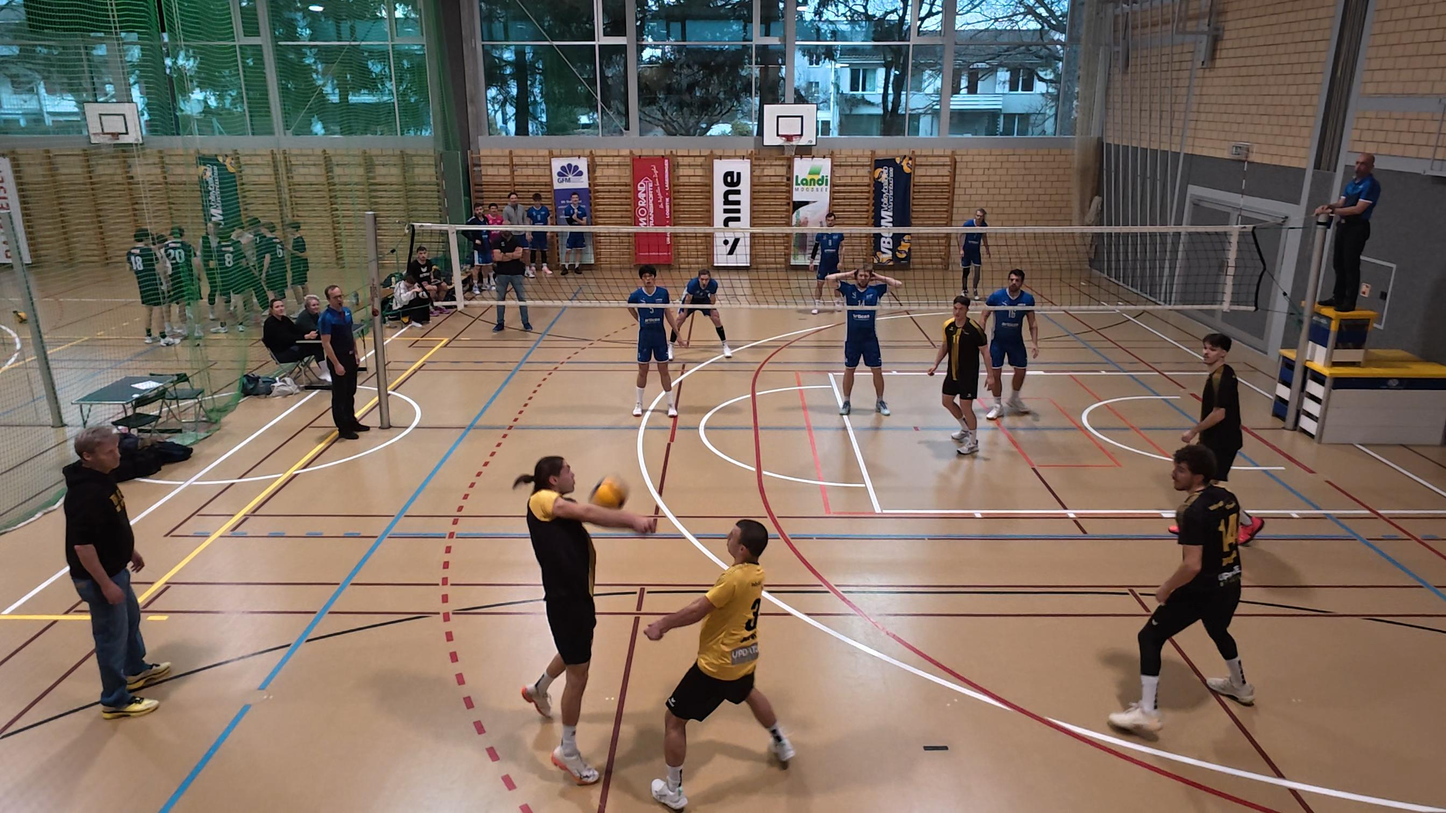Player: (640, 519, 796, 810), (1110, 446, 1254, 731), (1170, 332, 1265, 545), (833, 267, 902, 416), (928, 295, 990, 457), (982, 269, 1040, 420), (626, 265, 679, 417), (670, 266, 732, 361), (806, 214, 844, 314), (955, 210, 989, 296)
Receive: (512, 453, 661, 787)
ball: (589, 475, 627, 510)
